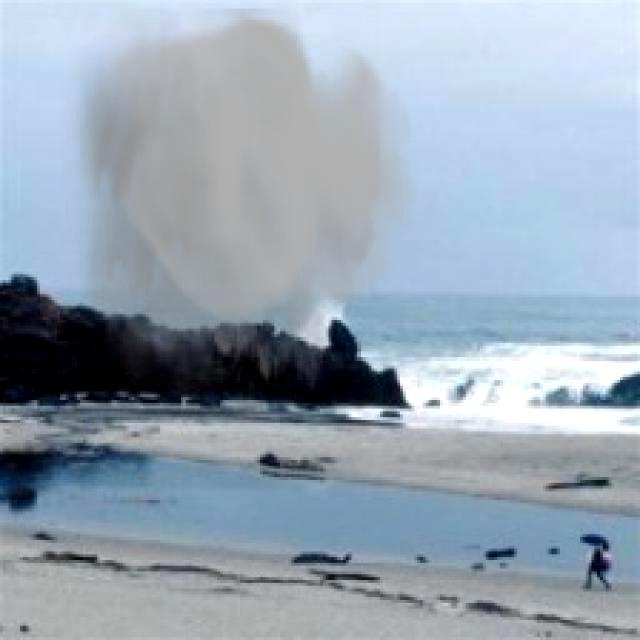Smoke: (60, 9, 417, 432)
